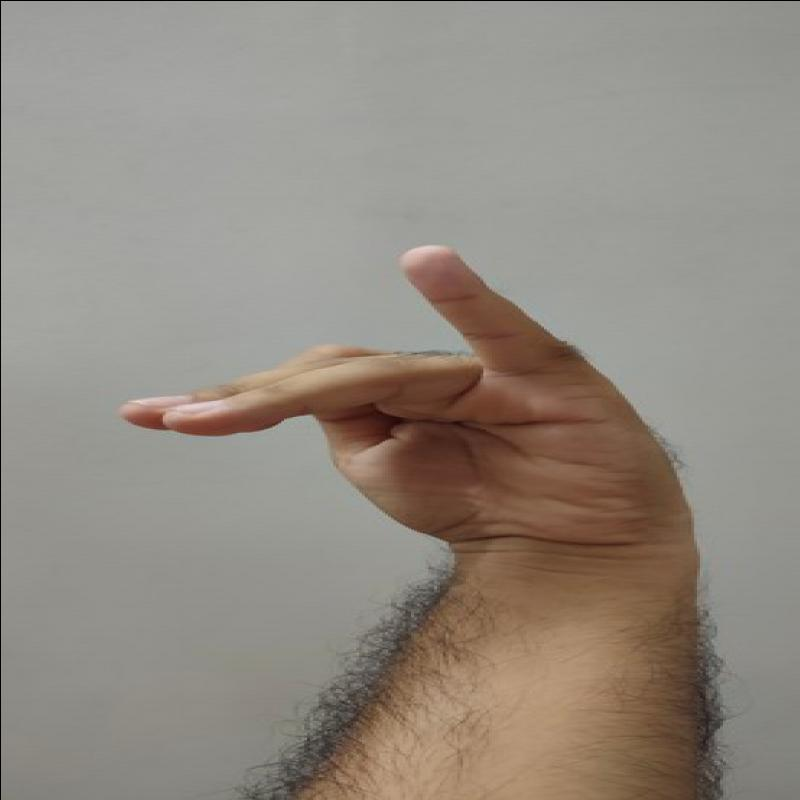Kartharee Mukham: (87, 233, 684, 549)
